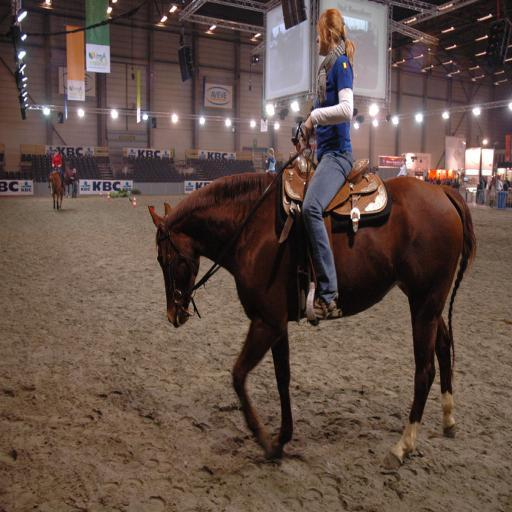Horse: (147, 170, 478, 474)
